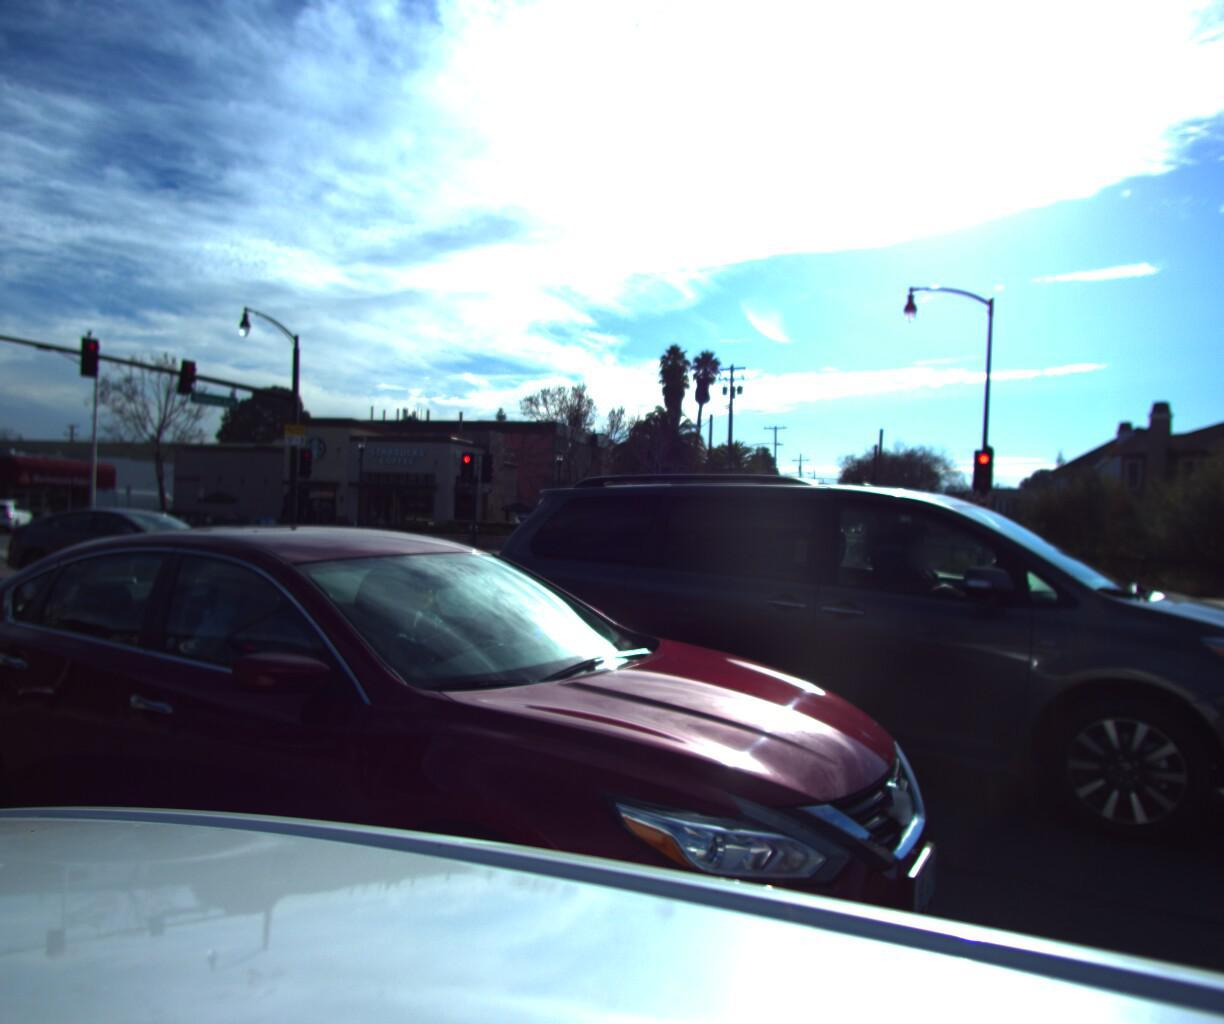car: (0, 486, 990, 1024), (468, 455, 1224, 906), (0, 489, 269, 591), (83, 482, 187, 529), (0, 497, 40, 531)
